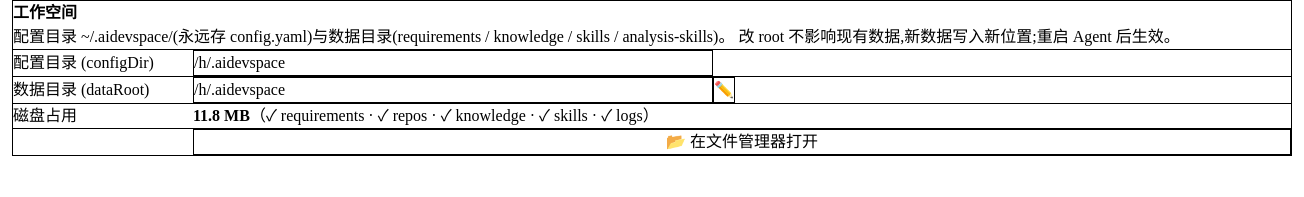
WorkspaceSection 行内编辑 v2 (ADR-0037 D5) › case 8: E_WS_ROOT_PATH_NOT_EXISTS → 红边 + 文案
Click the button with test id "edit-workspace-root".
click(724, 90)  # box [713,77,735,103]
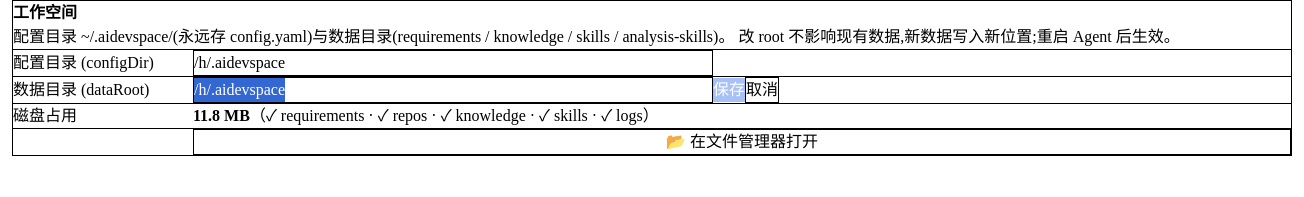
Replace the text in the field with test id "workspace-root" with "/no/such/path" at coordinates (453, 90), box [193,77,713,103]
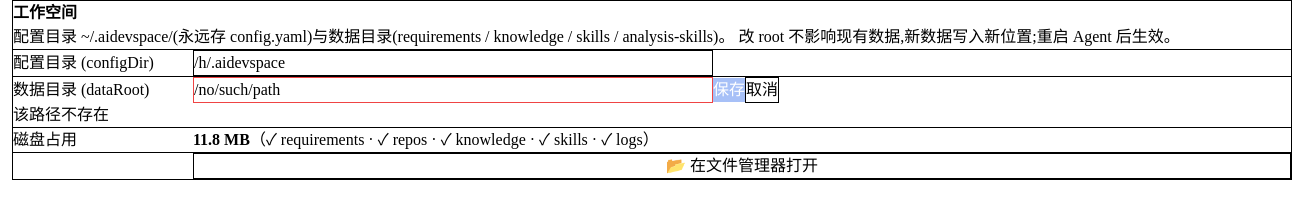
Expected: the button with test id "save-workspace-root" is disabled, [713,78,745,102]
Expected: the text with test id "workspace-validation-message" shows "不存在", [13,106,109,123]
